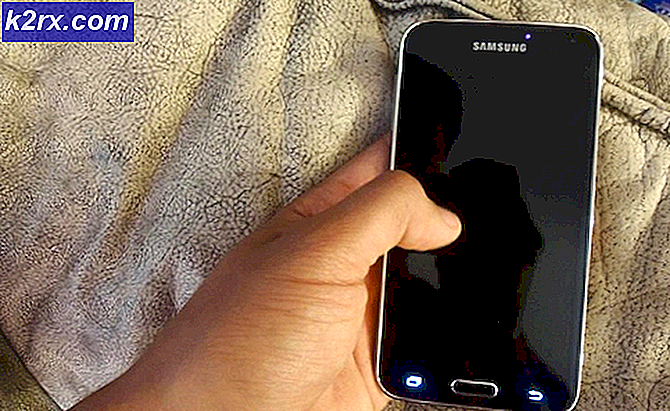Phone: (374, 18, 606, 411)
